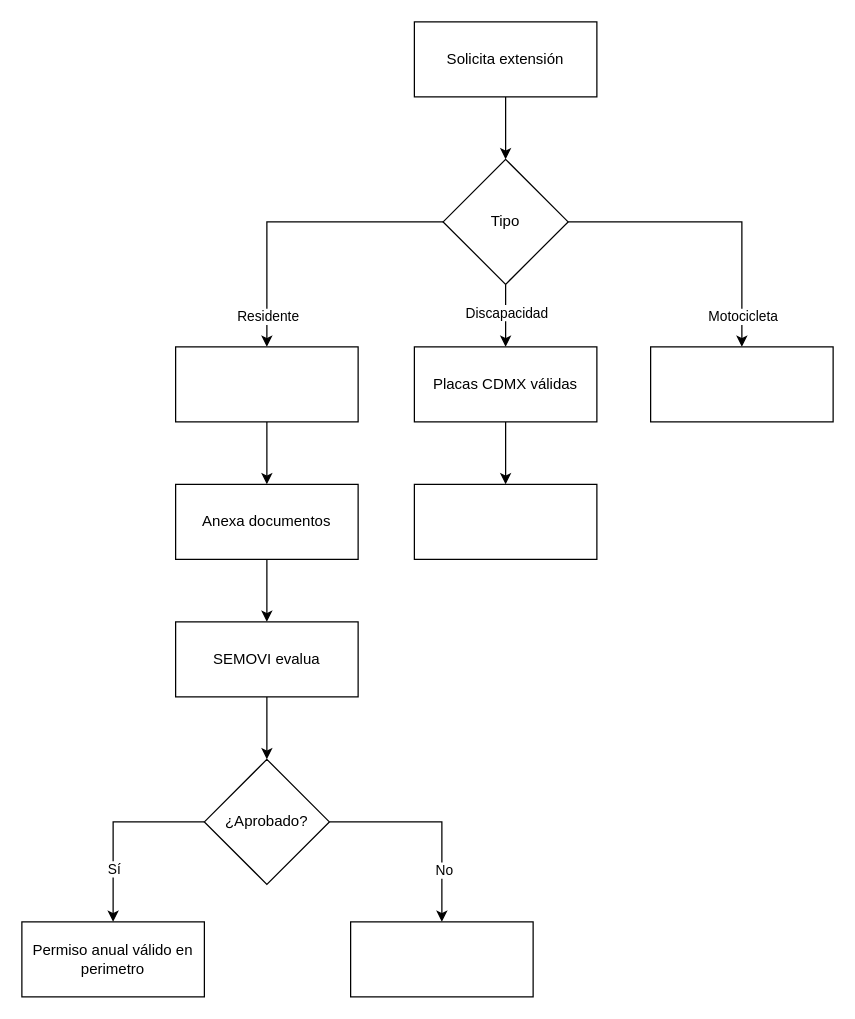
Image size: 855x1019. Some labels were removed from this diagram. The shapes that lost their labels are listed below. From the top down, each one's centre as x and y in pixels, then its label:
At (266,384): "Portal web SEMOVI".
At (741,384): "Zona azul únicamente".
At (505,521): "Extensión automática".
At (441,959): "Permiso rechazado".
